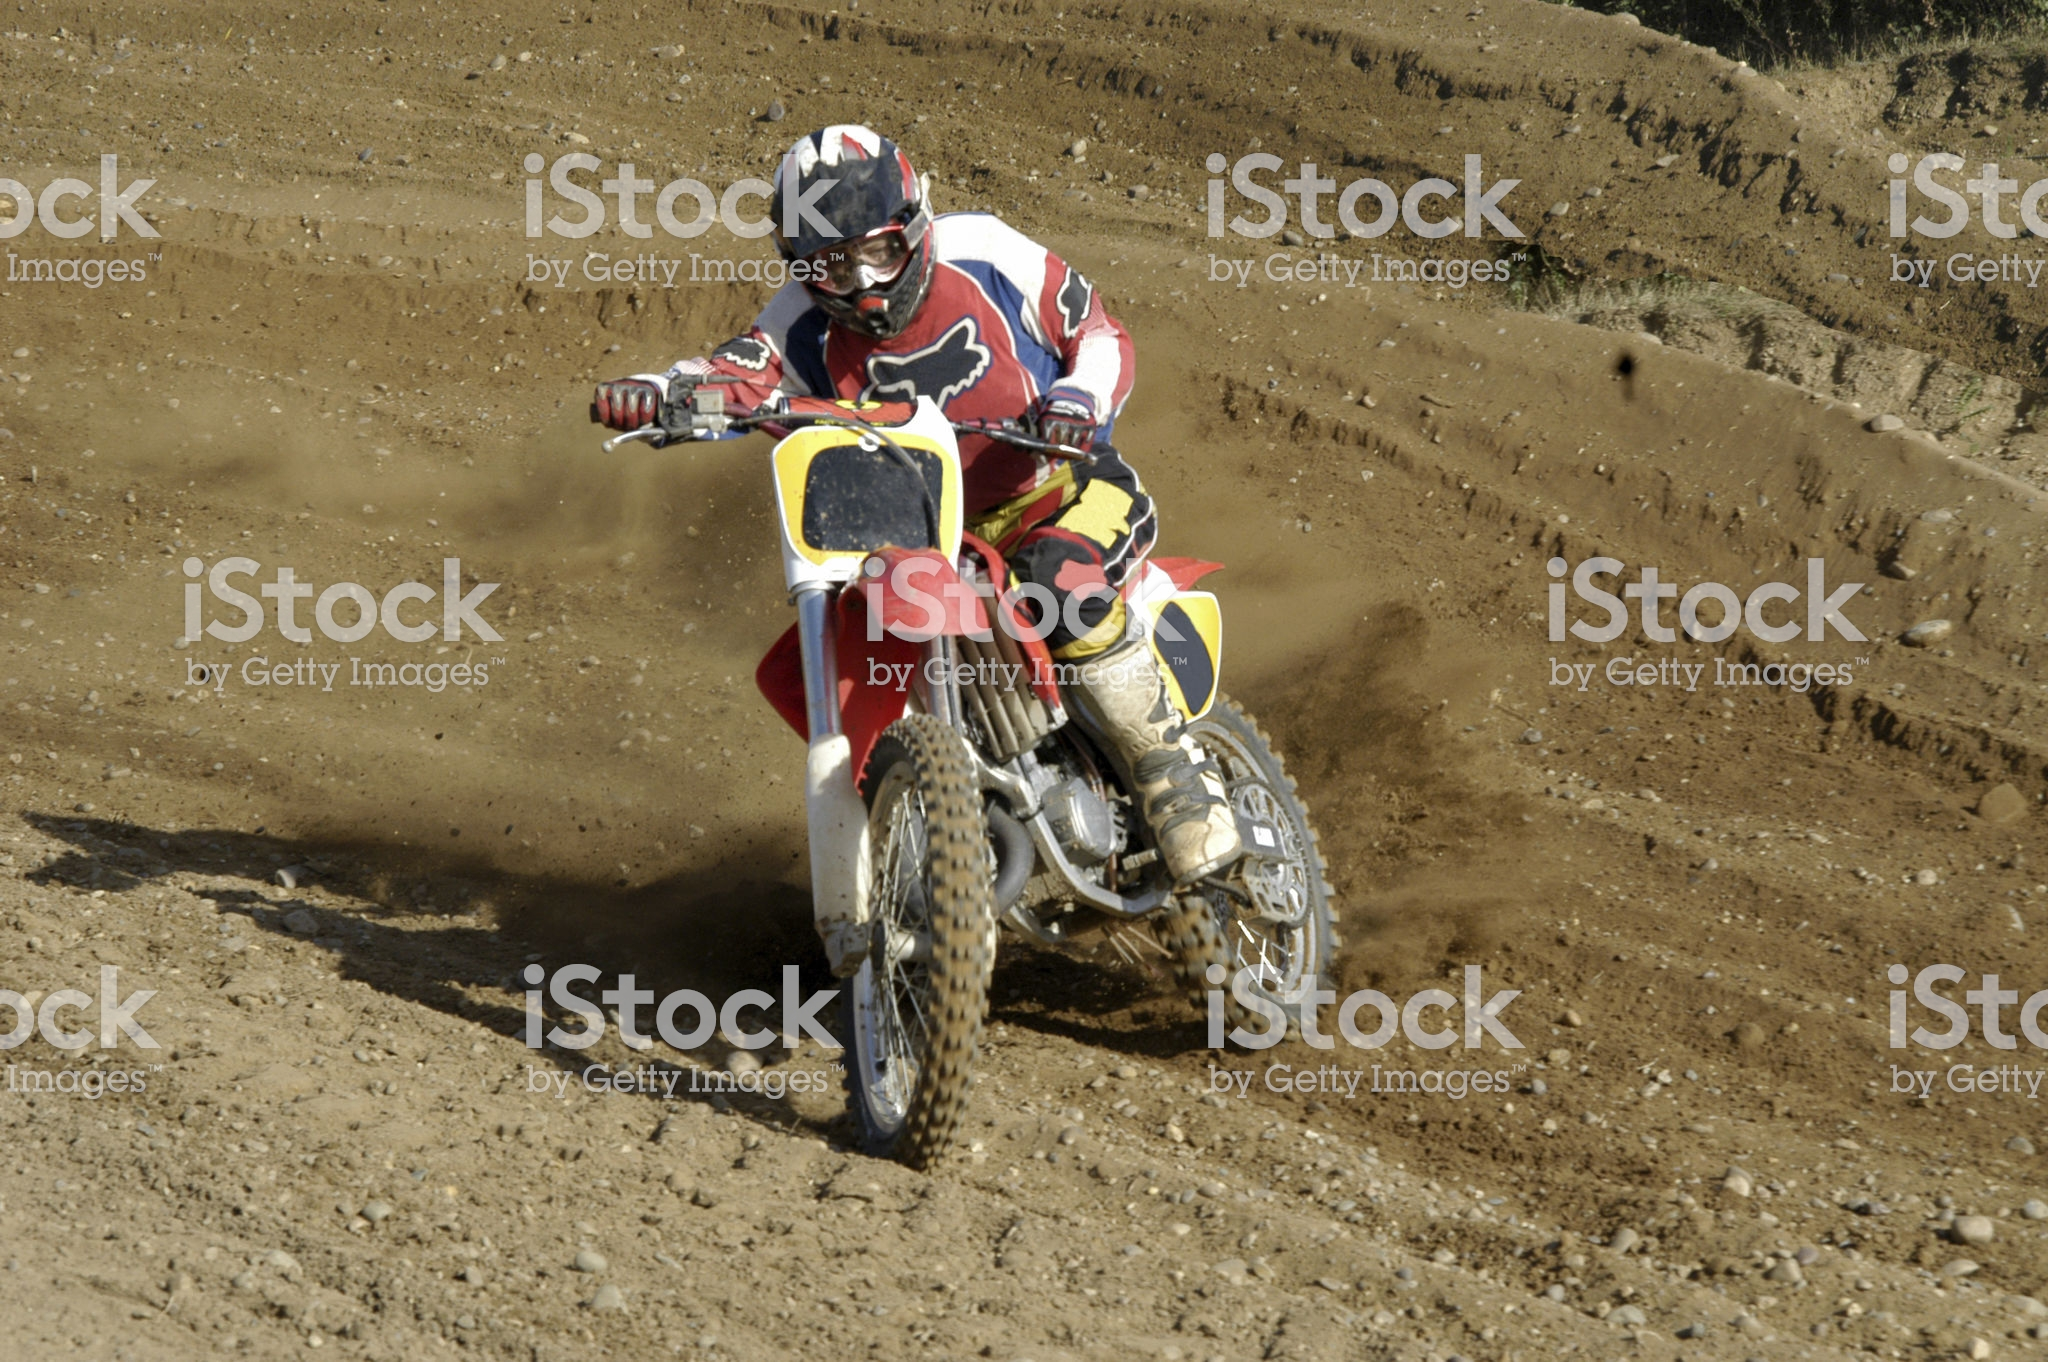helmet: (729, 123, 947, 353)
